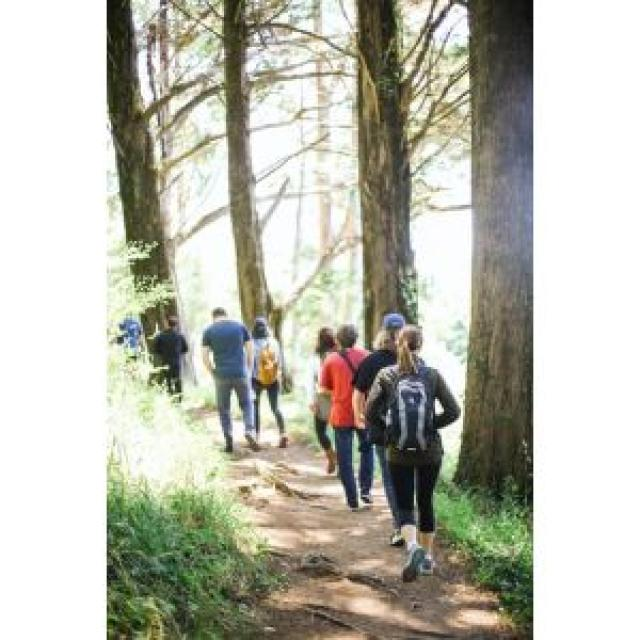nonfall: (364, 333, 472, 609), (191, 306, 259, 452), (331, 326, 367, 510), (302, 324, 338, 458), (256, 329, 293, 446)
